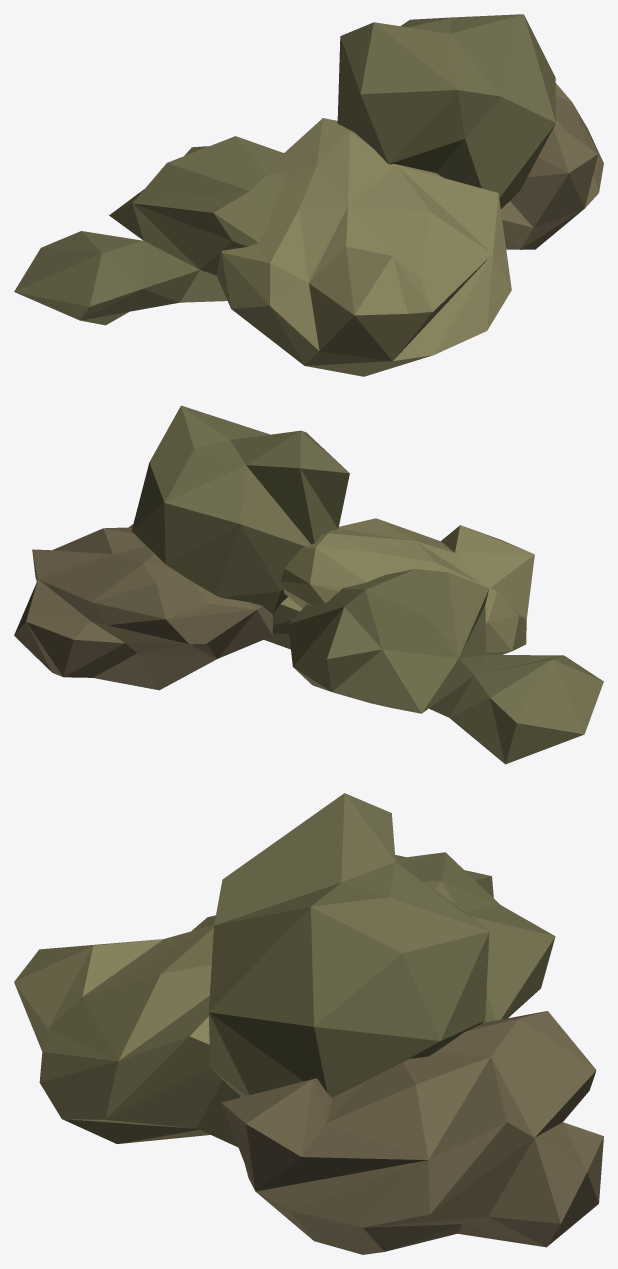
Rendered from SM_Env_Bush_Large_03.glb.
The picture shows the model from 3 angles, top to bottom: view 1: azimuth 30°, elevation 25°; view 2: azimuth 150°, elevation 25°; view 3: azimuth 270°, elevation 25°; orthographic projection. The views are drawn at different scales.
Parts seen in each view (by area): view 1: SM_Env_Bush_Large_03; view 2: SM_Env_Bush_Large_03; view 3: SM_Env_Bush_Large_03.
Boxes of the visible parts, x1,y1,x2,y2 form: SM_Env_Bush_Large_03: (14,14,603,376); SM_Env_Bush_Large_03: (14,405,603,764); SM_Env_Bush_Large_03: (14,793,603,1254).
Size of the model in its own units: 7.85 by 3.61 by 5.14.
Materials: 1 (1 with a texture image).
